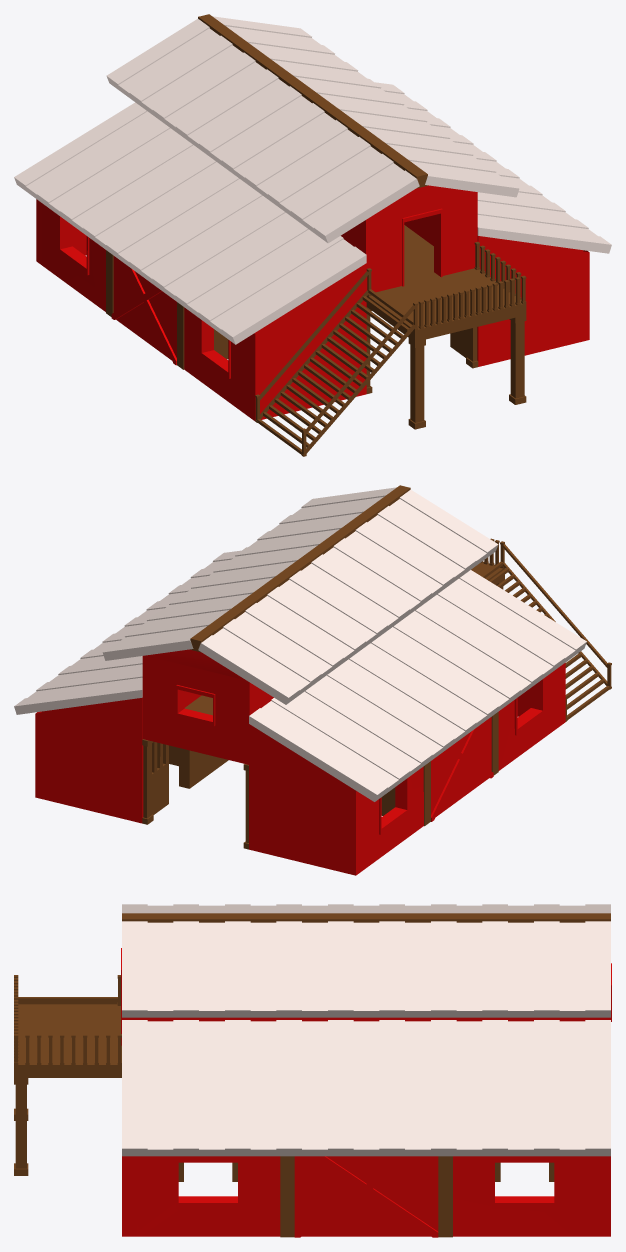
Rendered from BarnF.fbx.
The picture shows the model from 3 angles, top to bottom: view 1: azimuth 30°, elevation 25°; view 2: azimuth 150°, elevation 25°; view 3: azimuth 270°, elevation 25°; orthographic projection. The views are drawn at different scales.
Visible parts, largest first — view 1: Cube.008; view 2: Cube.008; view 3: Cube.008.
Part boxes in pixels (x1,y1,x2,y2): Cube.008: (14,14,611,456); Cube.008: (14,485,611,875); Cube.008: (14,904,611,1237).
Size of the model in its own units: 1360 by 703 by 1662.
